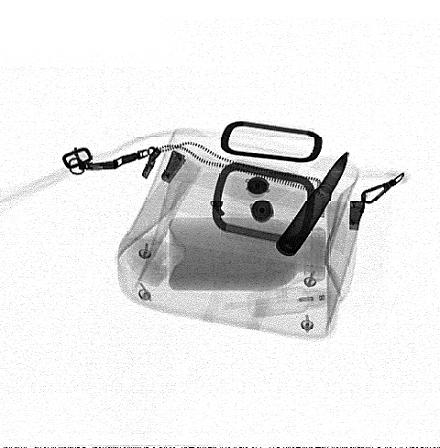Bullet: (276, 150, 349, 256)
